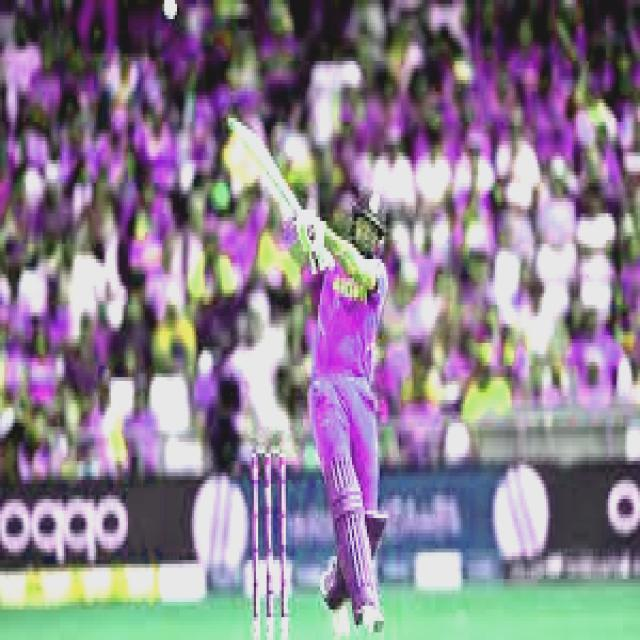toe: (226, 107, 247, 140)
